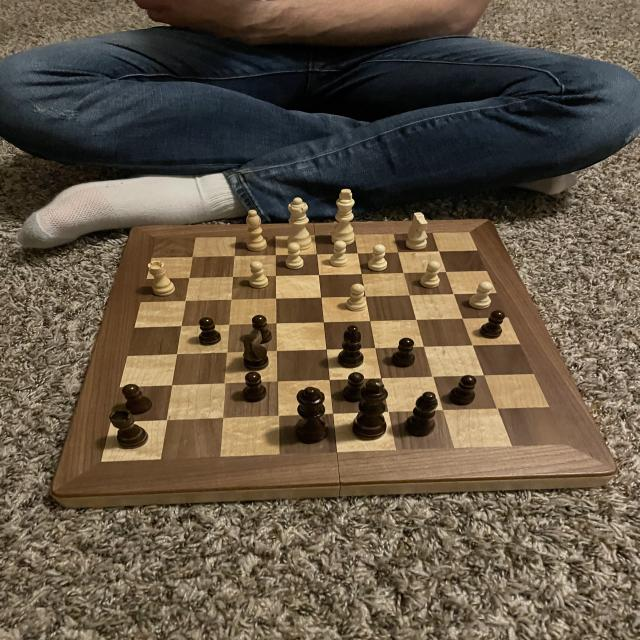bishop: (401, 389, 441, 440), (336, 325, 367, 369)
black-bishop: (349, 376, 393, 443)
black-king: (239, 328, 274, 371)
black-knight: (120, 380, 154, 416), (238, 370, 270, 406), (446, 373, 478, 408), (389, 336, 419, 369), (341, 370, 370, 404), (478, 308, 507, 341), (248, 312, 274, 344), (195, 316, 222, 346)
black-pawn: (294, 384, 332, 446)
black-queen: (107, 408, 150, 450)
black-rook: (243, 207, 271, 252)
white-bishop: (330, 186, 358, 246)
white-king: (402, 210, 431, 252)
white-knight: (467, 279, 495, 310), (417, 260, 445, 290), (344, 282, 370, 312), (365, 243, 390, 272), (248, 260, 272, 290), (328, 238, 352, 268), (284, 241, 306, 270)
white-pawn: (284, 195, 316, 252)
white-queen: (147, 259, 178, 298)
